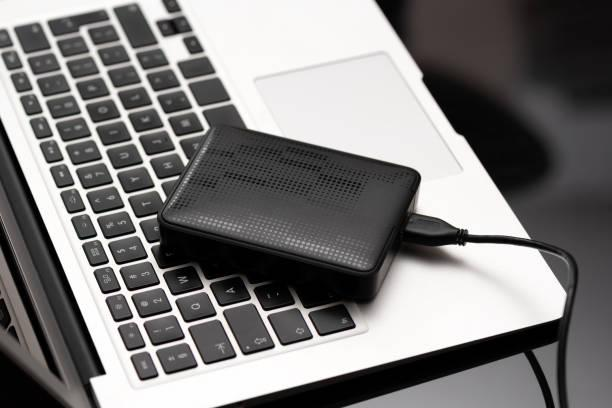HDD: (159, 125, 420, 300)
